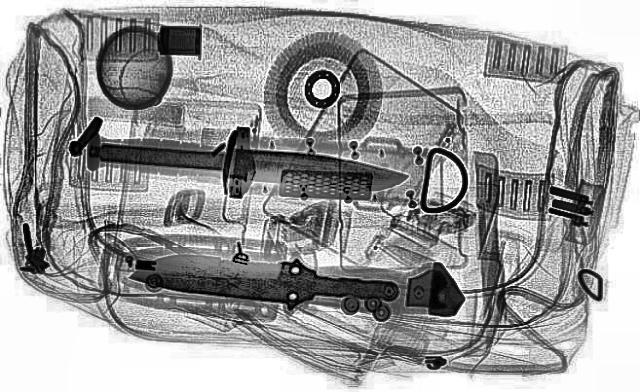Knife: (89, 132, 411, 194), (122, 247, 404, 317)
